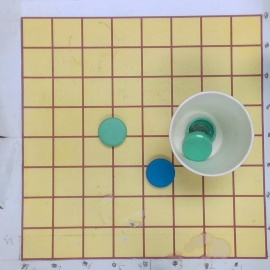blue: (146, 157, 175, 189)
cup_green: (169, 91, 254, 179)
green: (97, 116, 128, 147)
